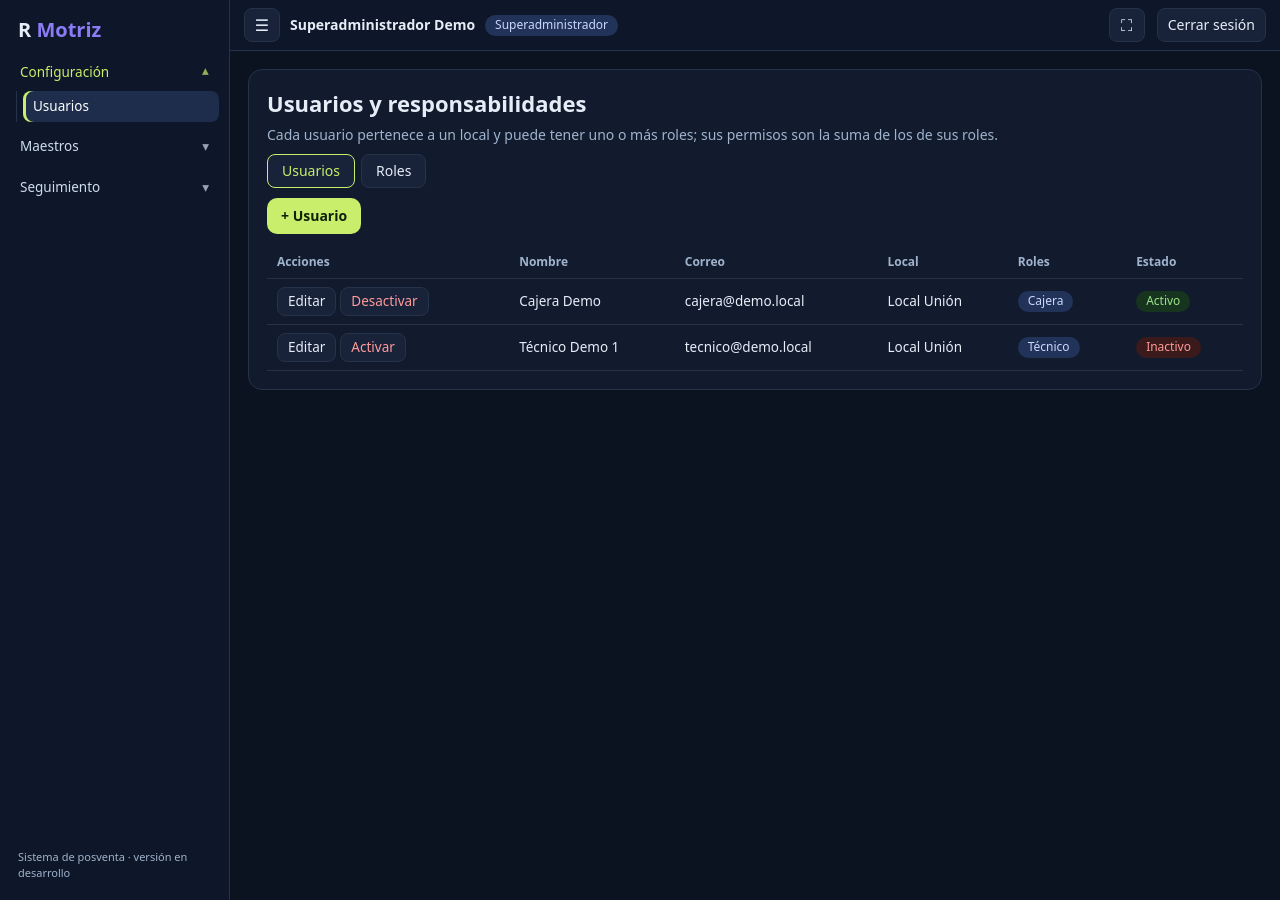
Test case: solo ofrece los roles que puedes asignar (nivel inferior al tuyo)
Click the button "+ Usuario" at (314, 216), box [267,198,361,234]
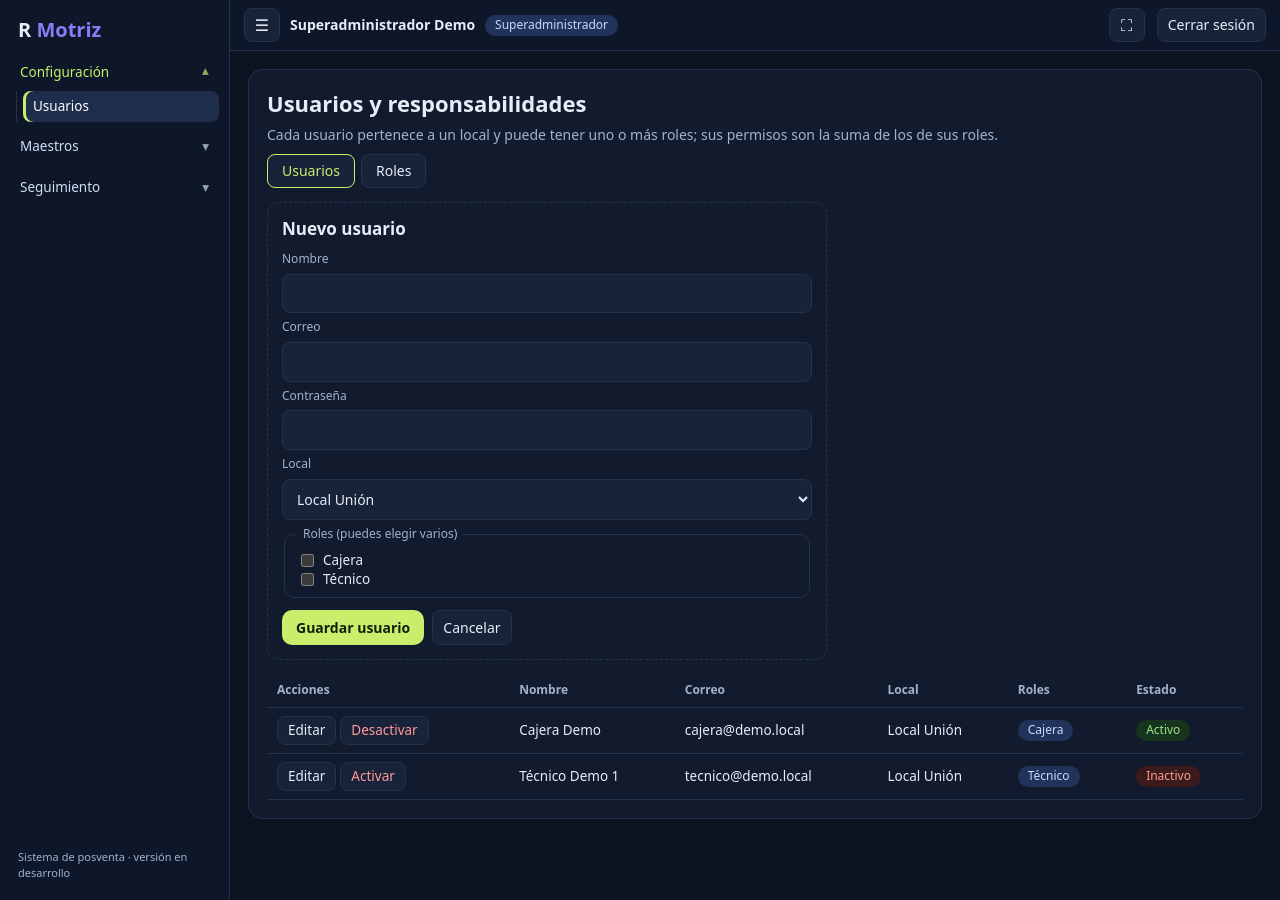
Check: the checkbox labelled "Cajera" is shown, box [301,554,314,566]
